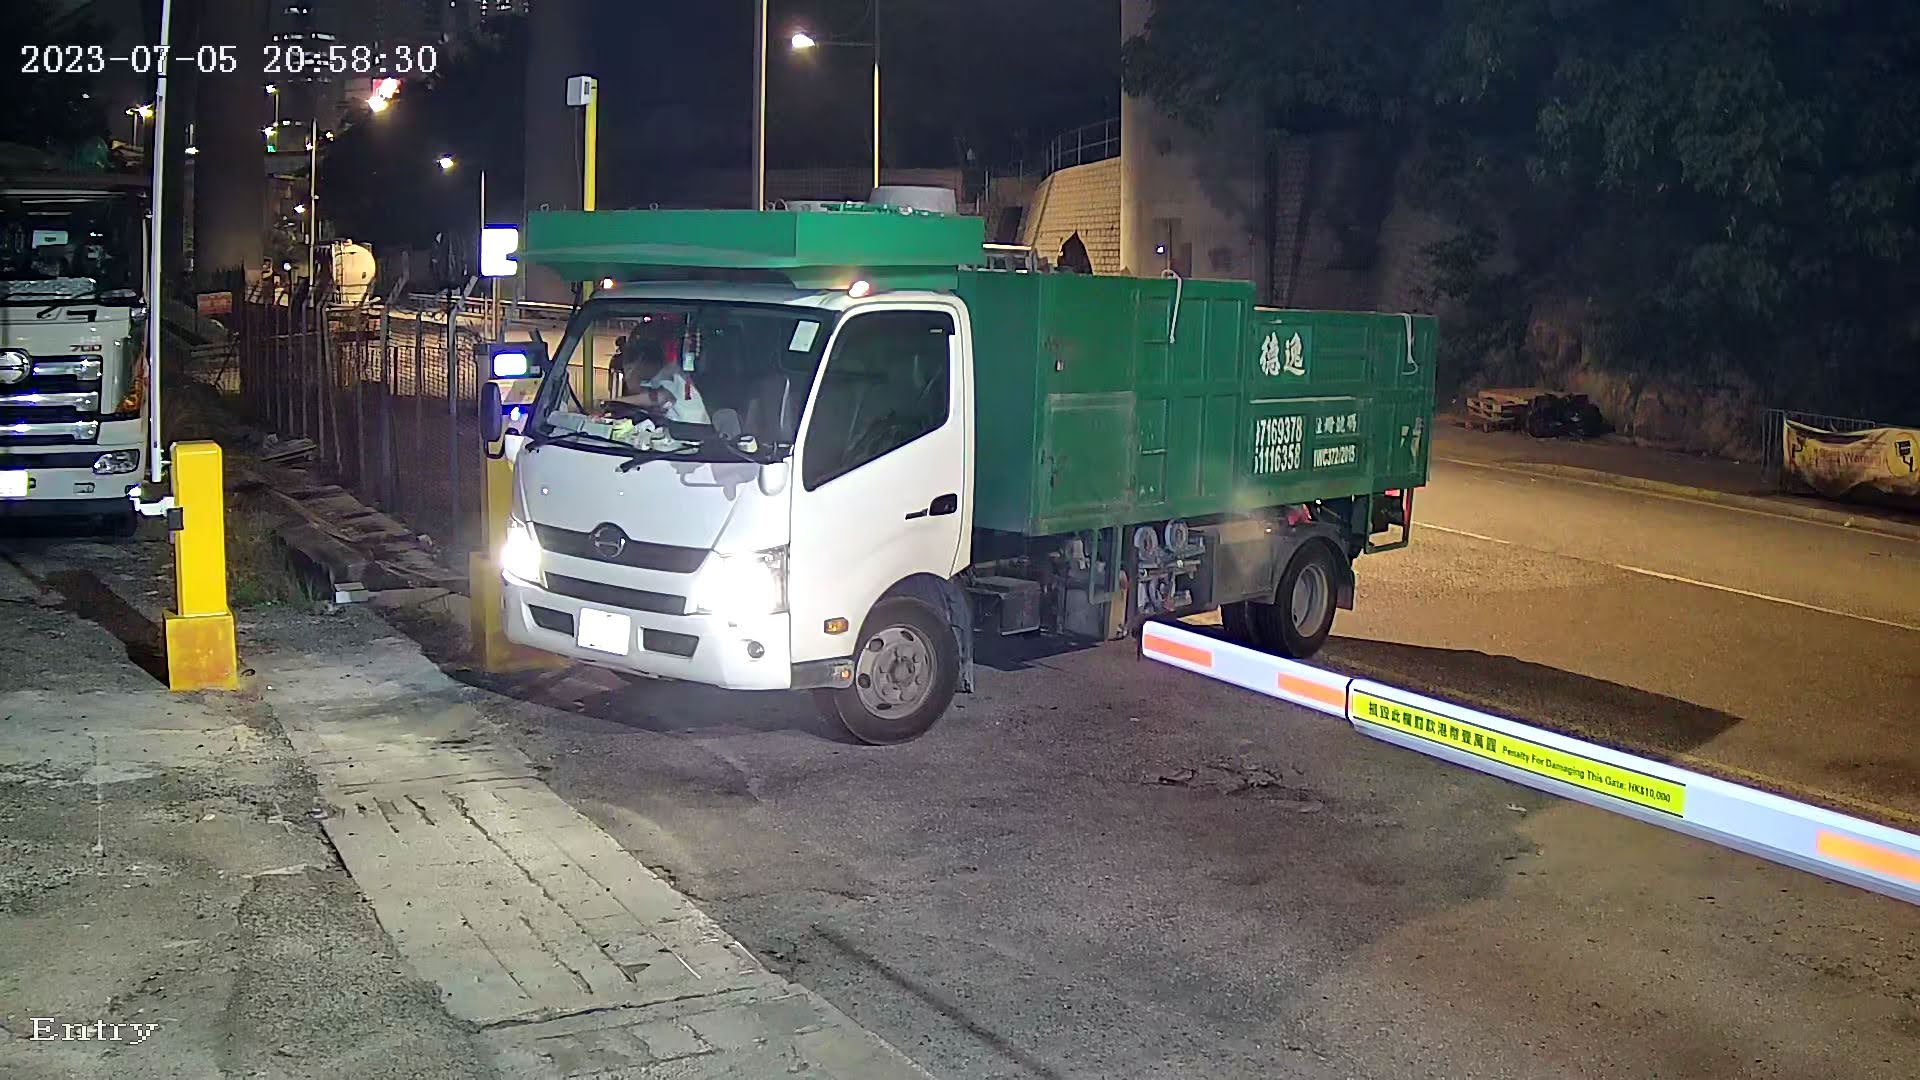truck: (411, 123, 1487, 766)
